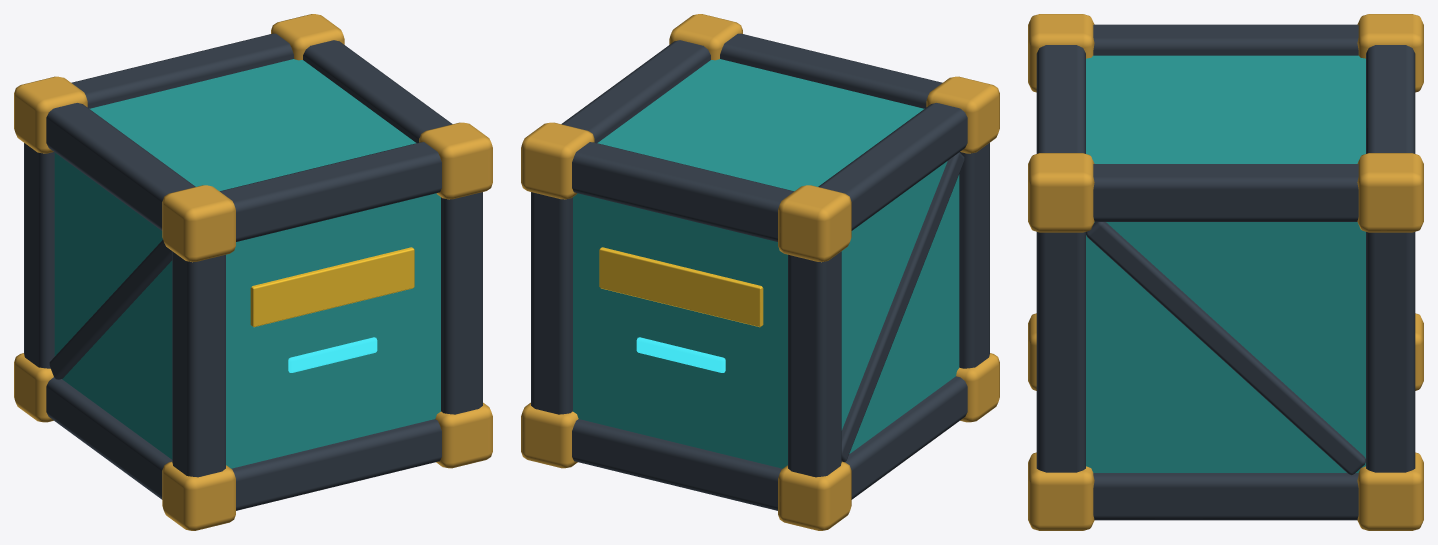
Rendered from crate_large.glb.
3 renders of one model, left to right at view 1: azimuth 30°, elevation 25°; view 2: azimuth 150°, elevation 25°; view 3: azimuth 270°, elevation 25°, orthographic. The views are drawn at different scales.
Visible parts, largest first — view 1: crate_large_body; view 2: crate_large_body; view 3: crate_large_body.
Boxes of the visible parts, <box> form: crate_large_body: <box>14,14,492,530</box>; crate_large_body: <box>521,14,999,530</box>; crate_large_body: <box>1028,14,1423,530</box>.
Bounding box in the file's own units: 1.67 × 1.67 × 1.67.
